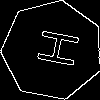H: (27, 25, 80, 70)
